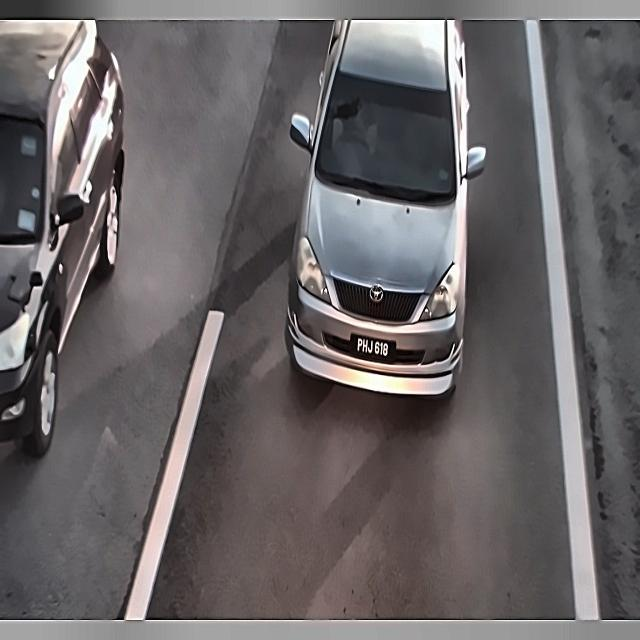car: (349, 326, 400, 359)
